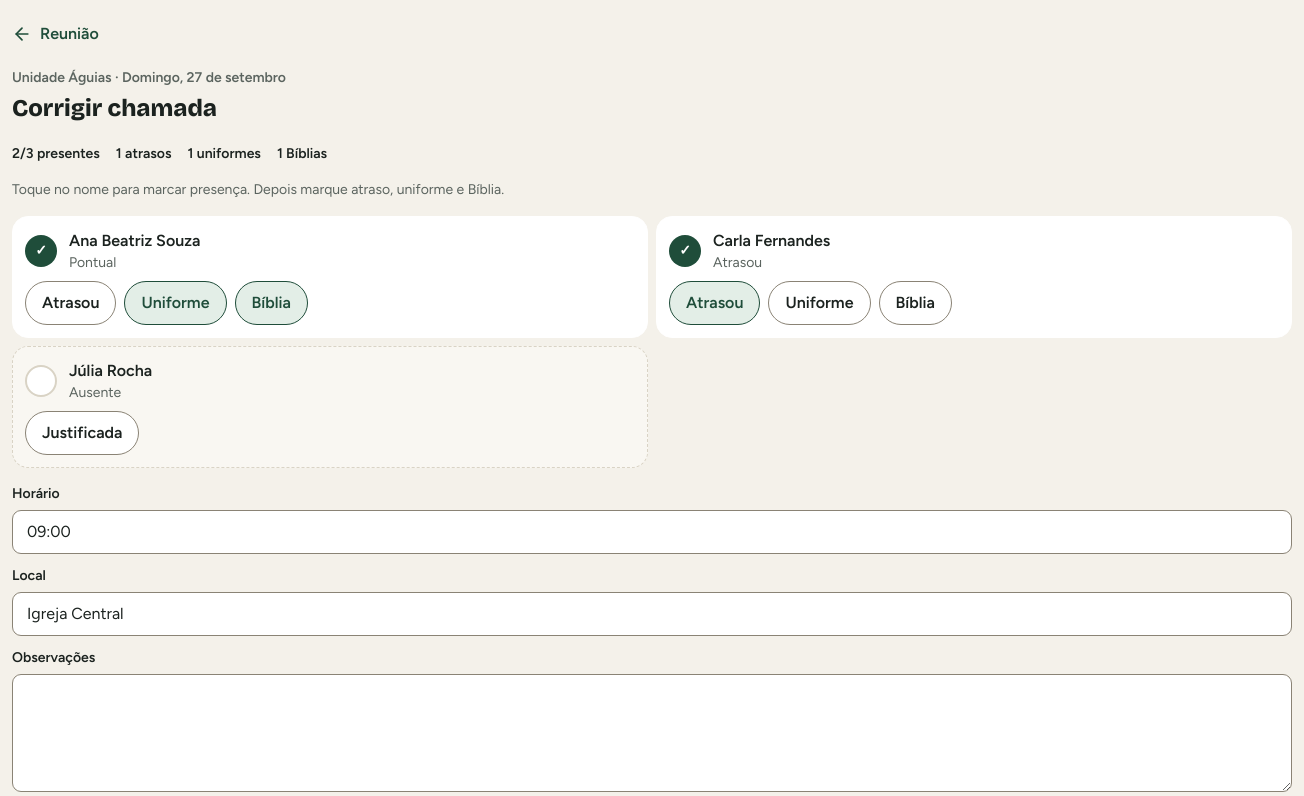
Test: corrigir chamada (Adm) › conflito e descartados aparecem na própria tela; Salvar fica desligado
The image size is (1304, 796).
Click the button "✓ Júlia Rocha Ausente" at (41, 381), box [25,359,635,403]
(page scrolled)
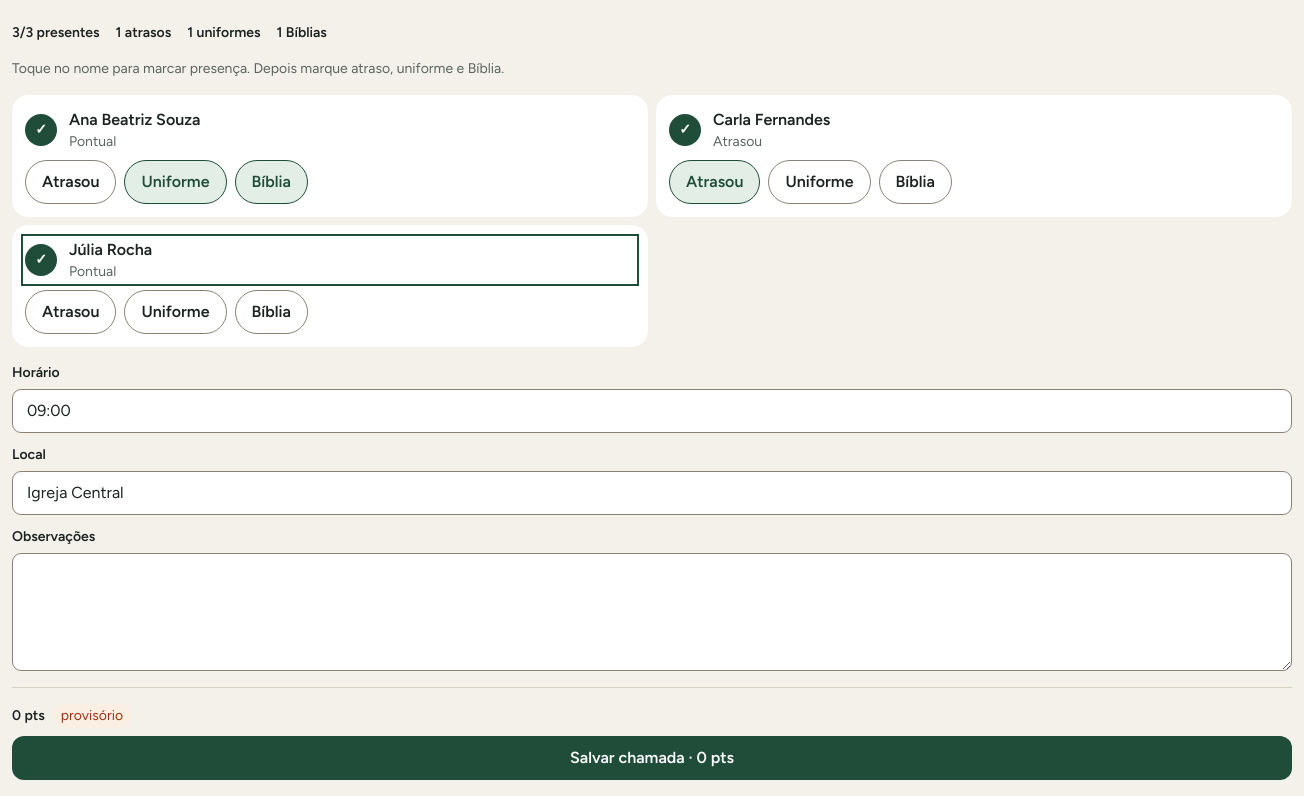
Click the button "Salvar chamada · 0 pts" at (652, 758), box [12,736,1292,780]
(page scrolled)
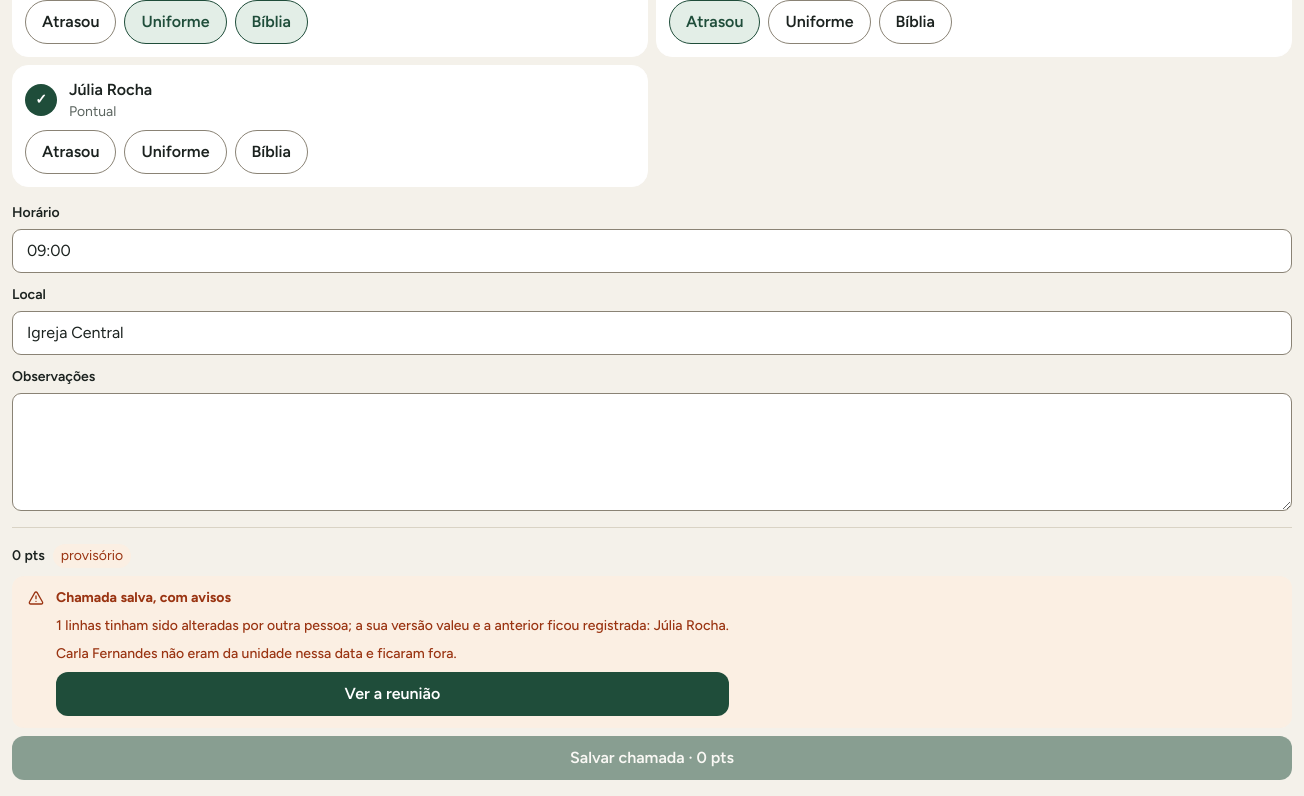
Now the text "a sua versão valeu e a anterior ficou registrada: Júlia Rocha" is shown, box [56,617,729,634]
Now the text "Carla Fernandes não eram da unidade nessa data e ficaram fora." is shown, box [56,645,457,662]
Now the button "Salvar chamada · 0 pts" is disabled, box [12,736,1292,780]
